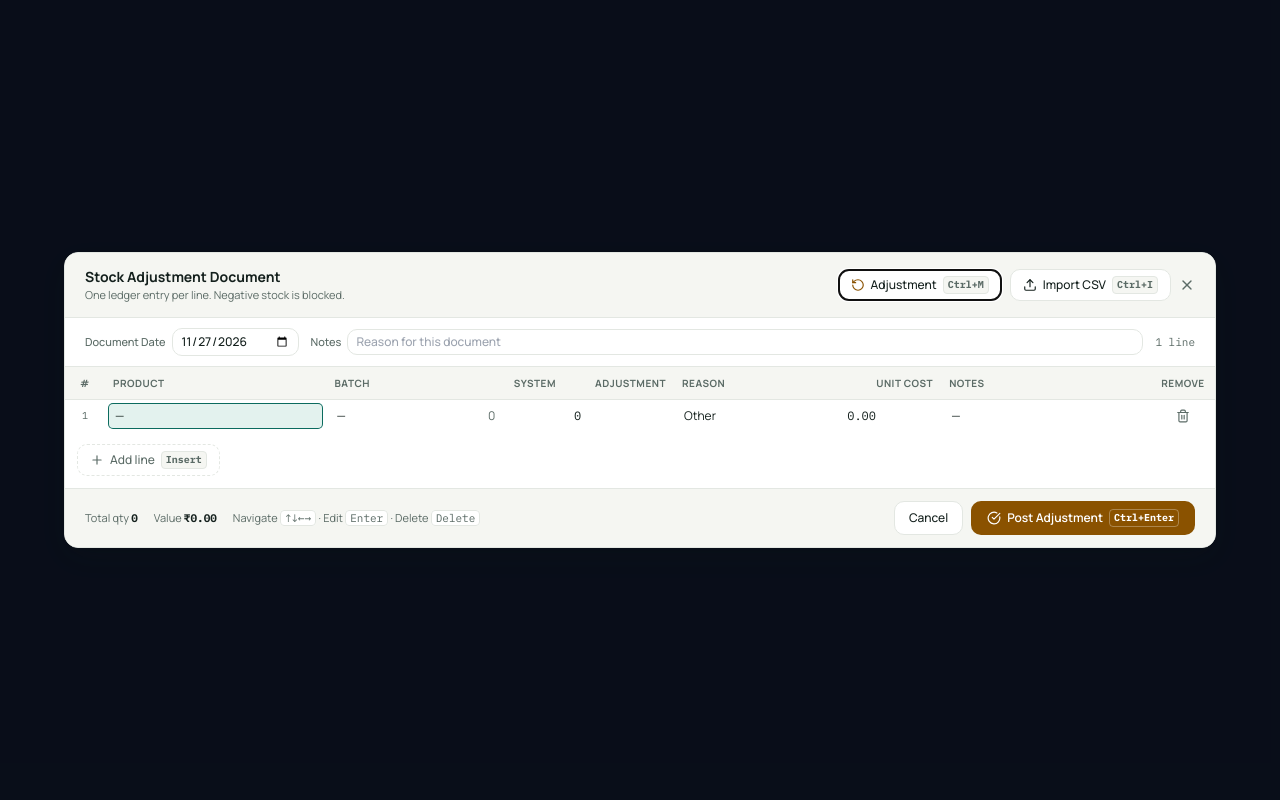
it: StockAdjustmentDocumentModal keyboard grid › narrows the product picker by name, batch or barcode instead of scrolling a list
Press ArrowUp in the button "Add line Insert", box [77,444,220,476]
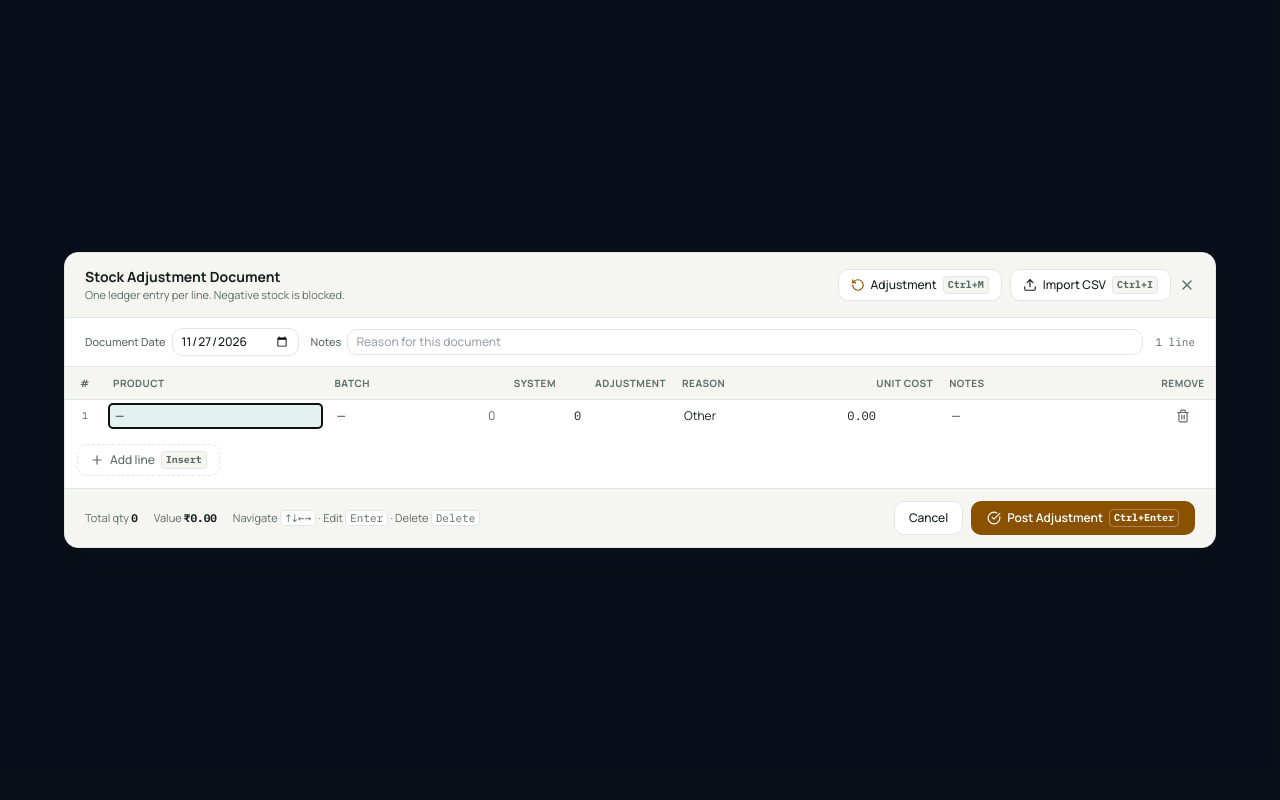
Press Enter in the button "Add line Insert", box [77,444,220,476]
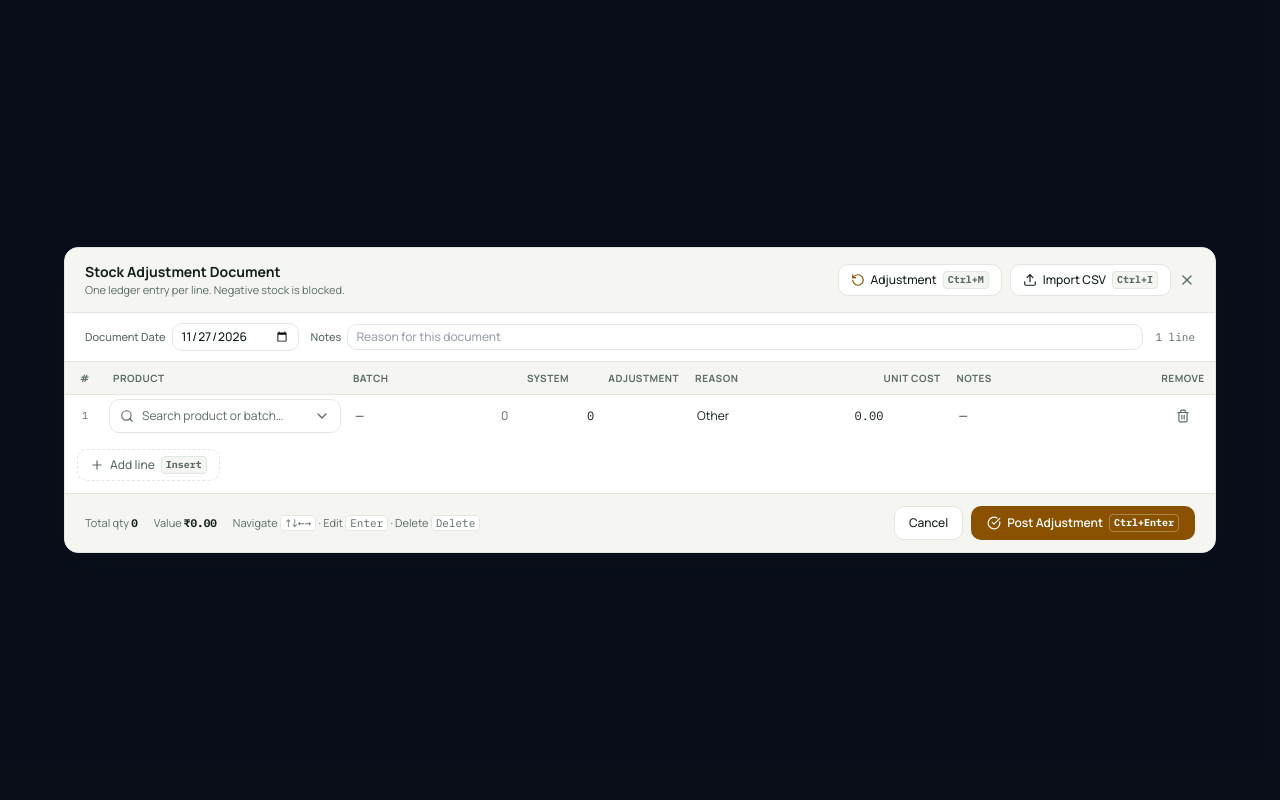
Click the dropdown labelled "Search product or batch…" at (225, 416), box [109,399,341,433]
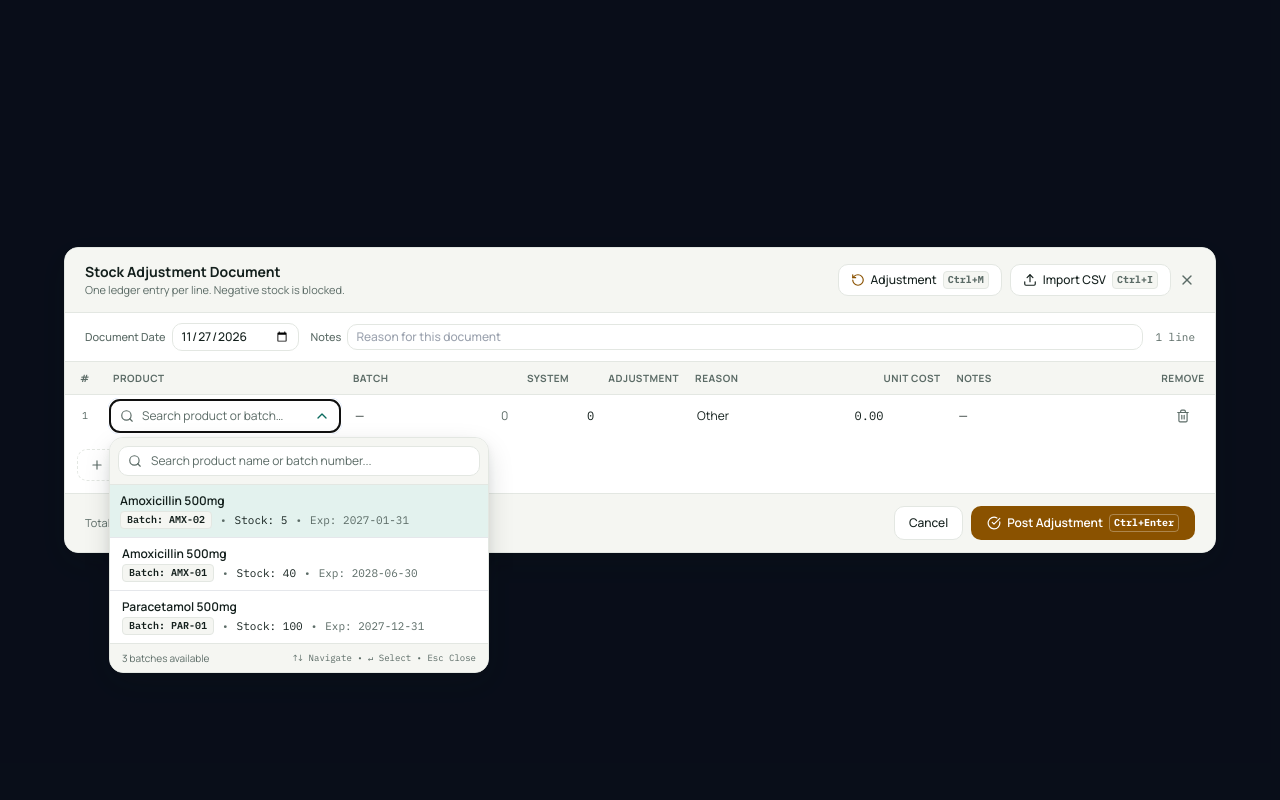
Type "amox" into the field with placeholder "Search product name or batch number..." at (299, 461), box [118,446,480,476]
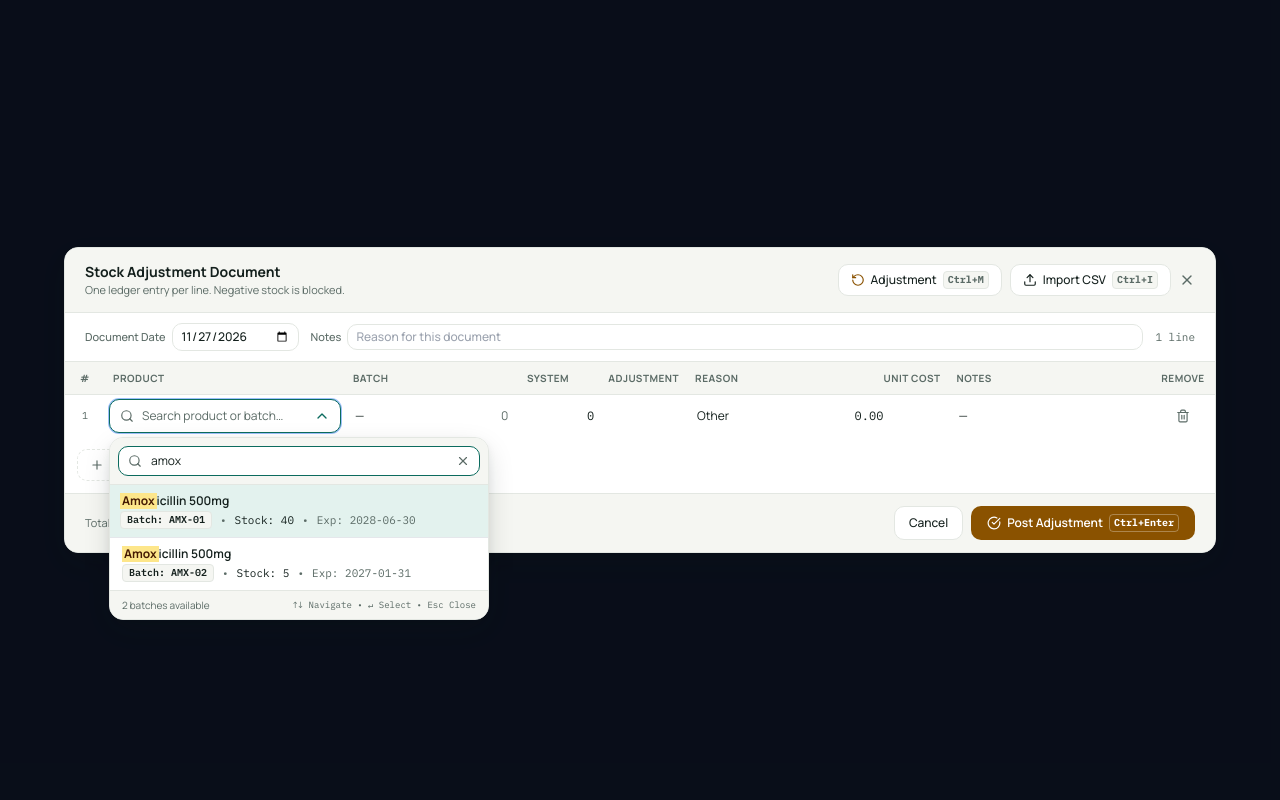
expect the number of options is 2: met
Click the option "Amoxicillin 500mg Batch: AMX-02 • Stock: 5 • Exp: 2027-01-31" at (299, 564), box [110,537,488,590]
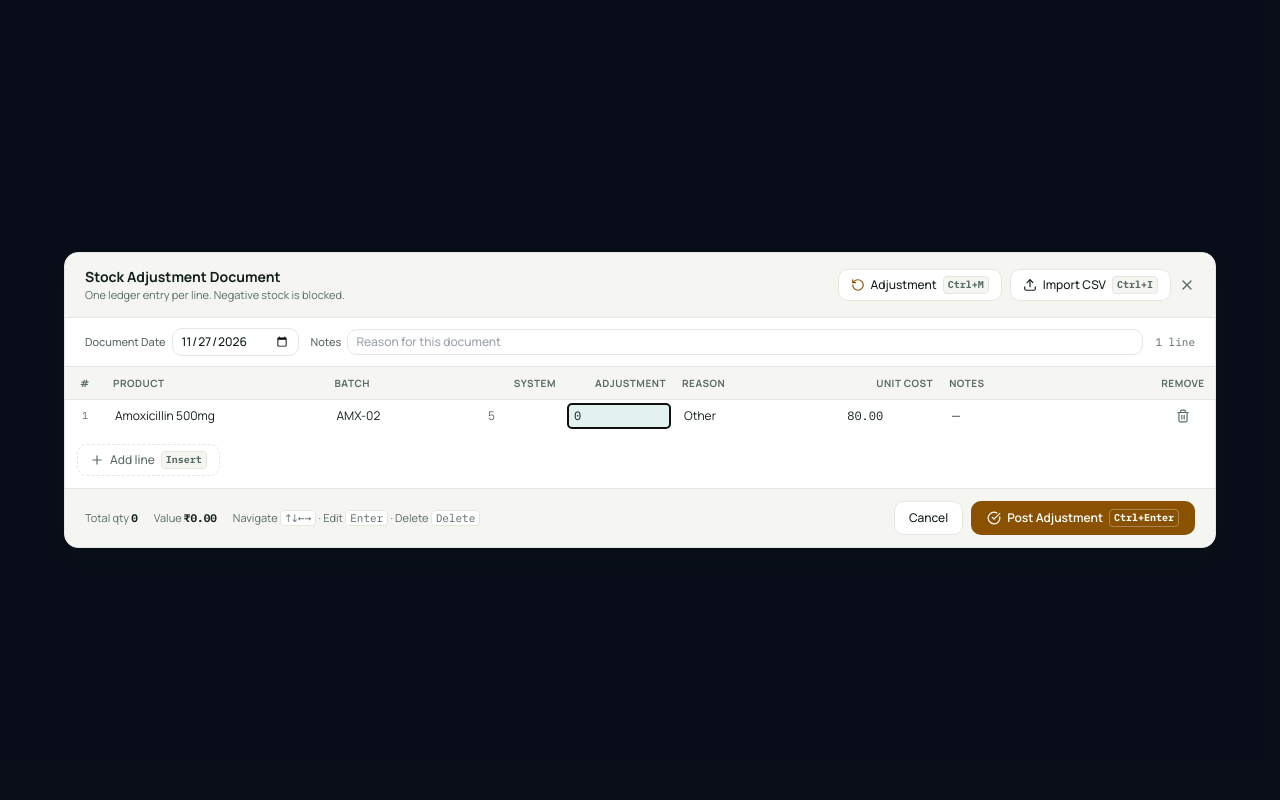
expect the text "Amoxicillin 500mg" is shown: met, box [115,407,215,424]
expect the text "AMX-02" is shown: met, box [336,407,380,424]
expect the text "5" is shown: met, box [488,407,495,424]
